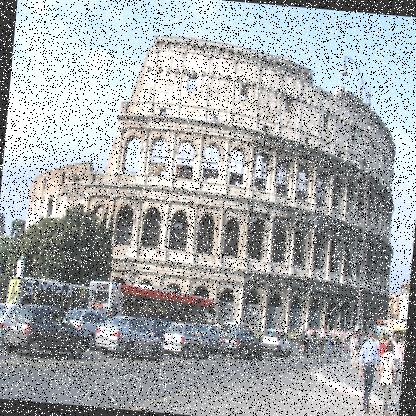Car: (140, 310, 294, 368), (0, 300, 112, 364), (84, 319, 162, 363)
